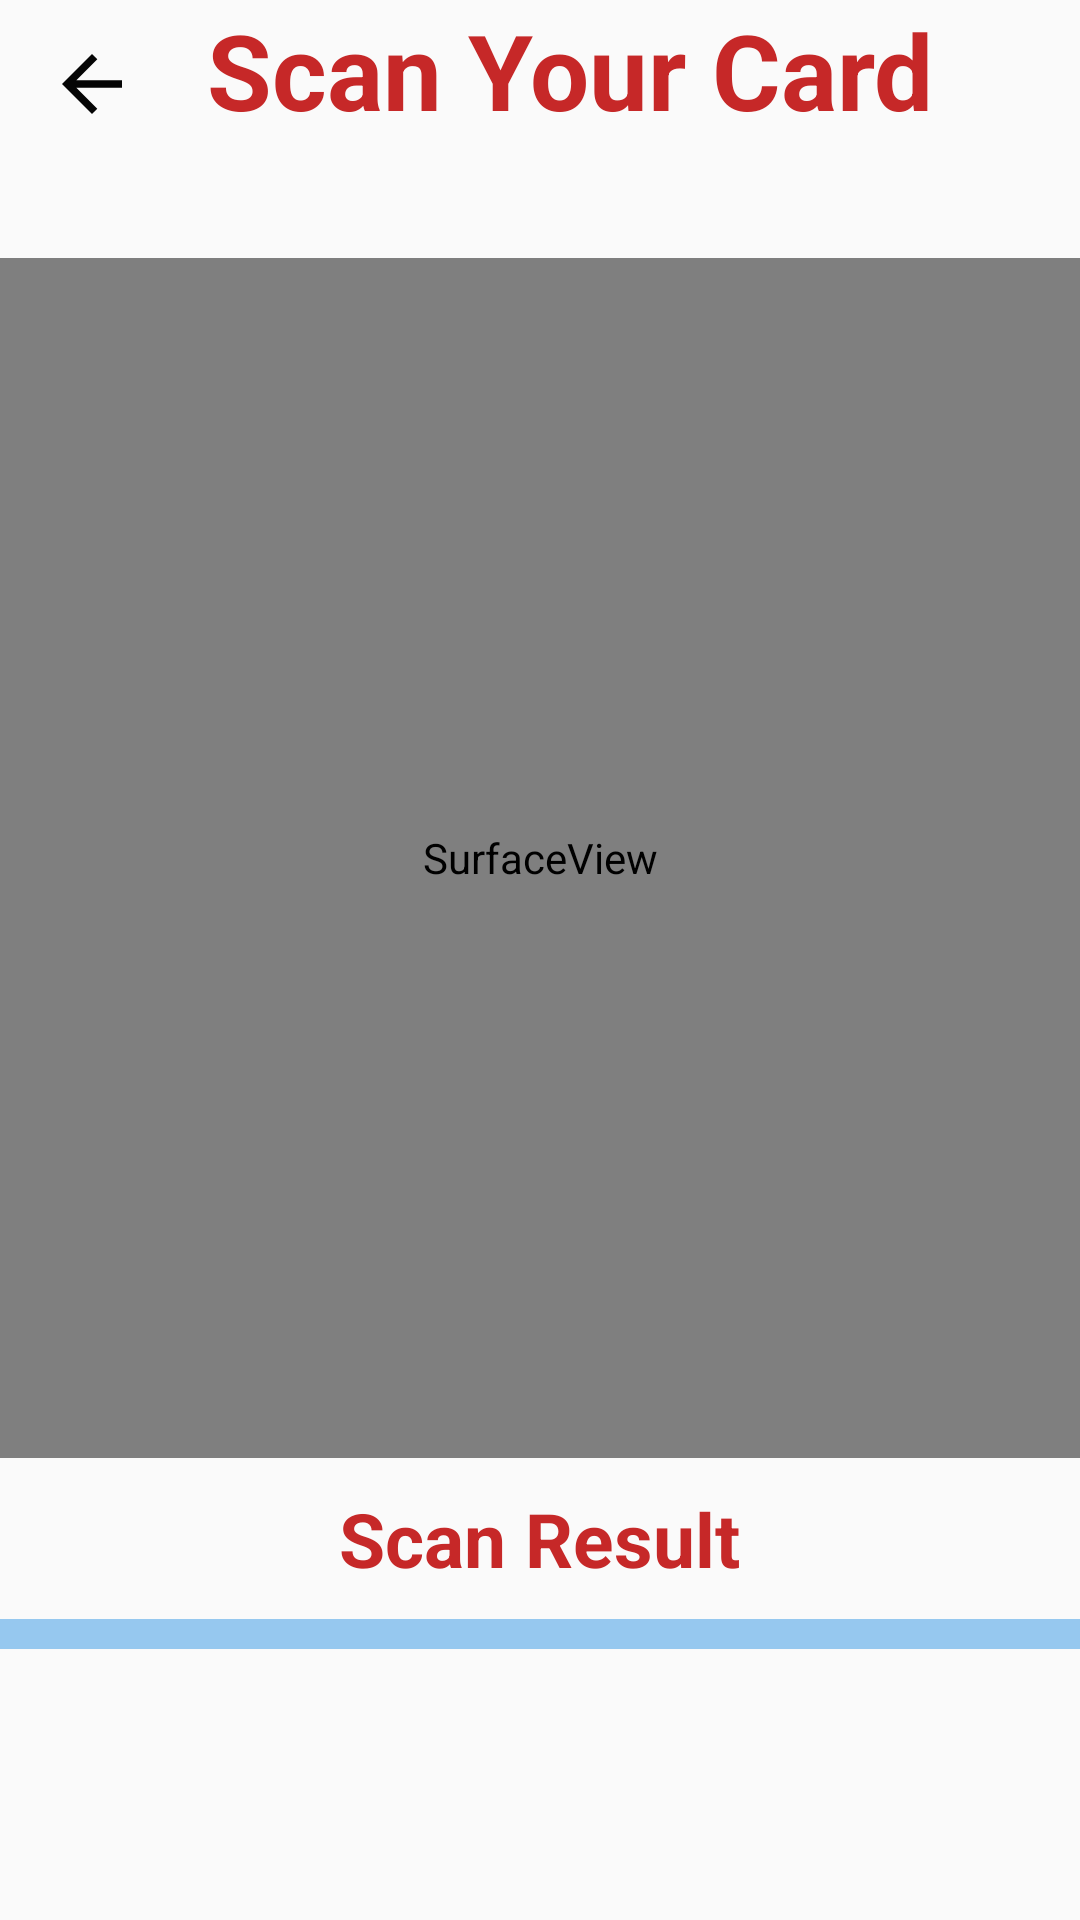

Where icons sit on this 1080px x 1920px app screen, as (x1, y1, x2, y2):
back arrow: (62, 54, 122, 114)
